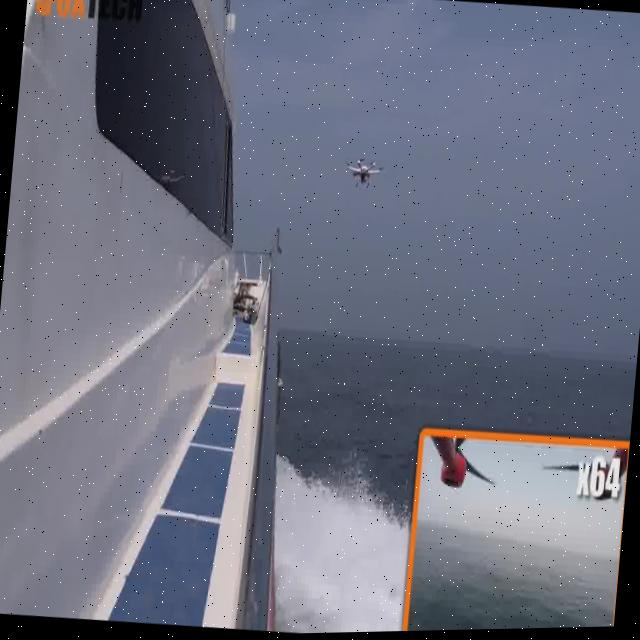drone: (322, 136, 386, 213)
